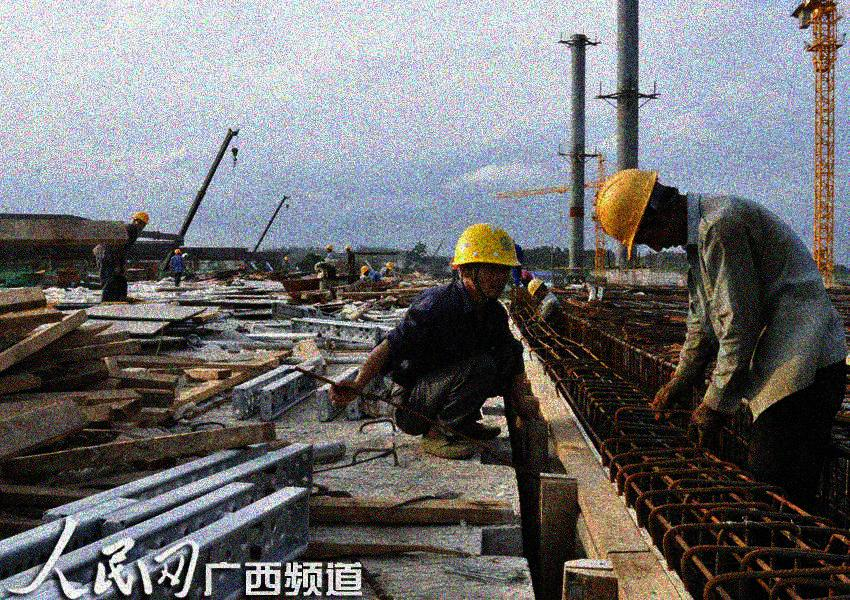helmet: (591, 166, 688, 256), (450, 221, 523, 299), (527, 278, 549, 299), (132, 211, 150, 231), (359, 265, 370, 276), (384, 261, 394, 273), (325, 244, 334, 253), (344, 244, 352, 254), (174, 248, 182, 257), (283, 255, 289, 263)
